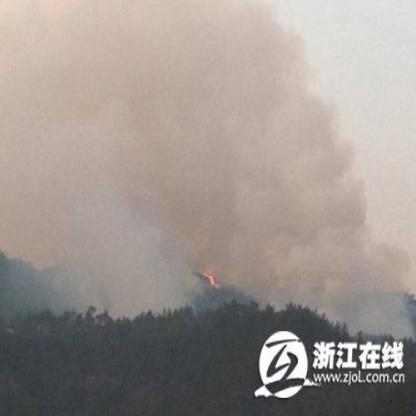fire: (192, 259, 236, 299)
smoke: (28, 13, 412, 342)
